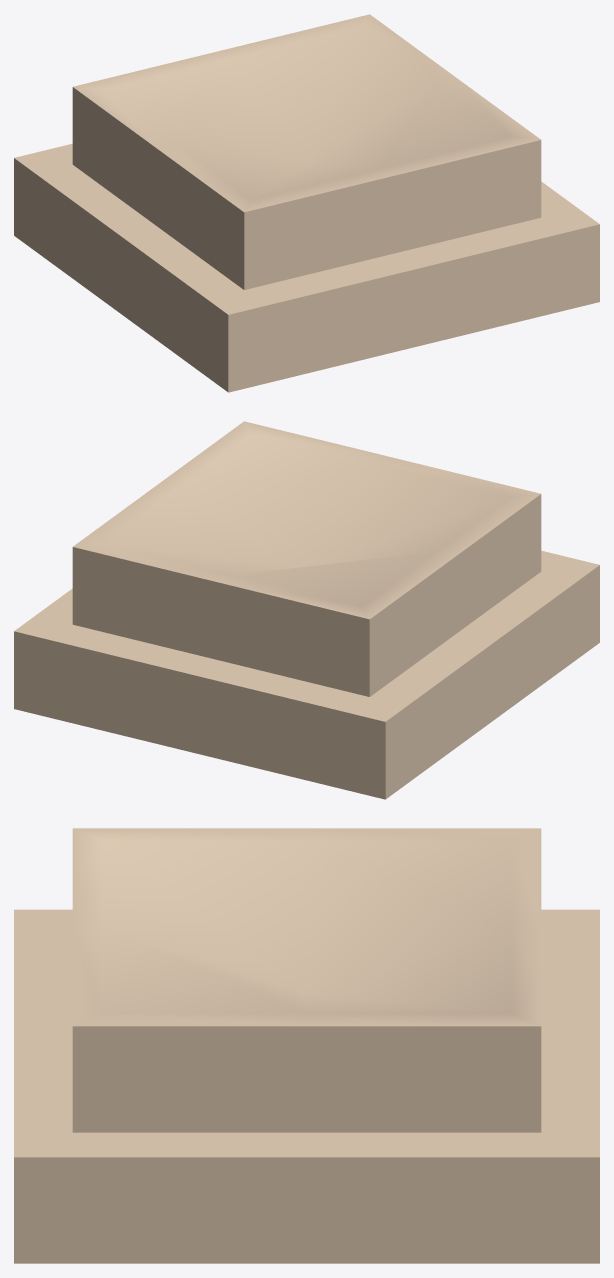
File: ceiling_deco.fbx
3 views of the same model, one above another, from view 1: azimuth 30°, elevation 25°; view 2: azimuth 150°, elevation 25°; view 3: azimuth 270°, elevation 25° (orthographic). The views are drawn at different scales.
Parts seen in each view (by area): view 1: ceiling_deco; view 2: ceiling_deco; view 3: ceiling_deco.
Part boxes in pixels (box(x1,y1,x2,y2)): ceiling_deco: box(14, 14, 599, 392); ceiling_deco: box(14, 421, 599, 799); ceiling_deco: box(14, 828, 599, 1263).
Size of the model in its own units: 100 by 40 by 100.
